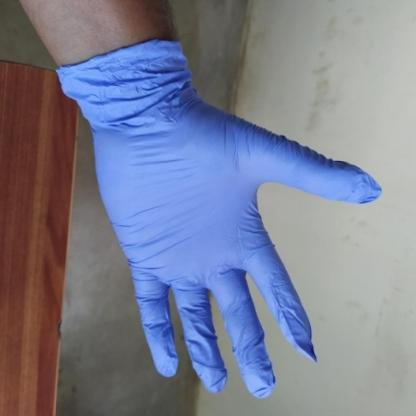gloved_hand: (51, 37, 386, 401)
